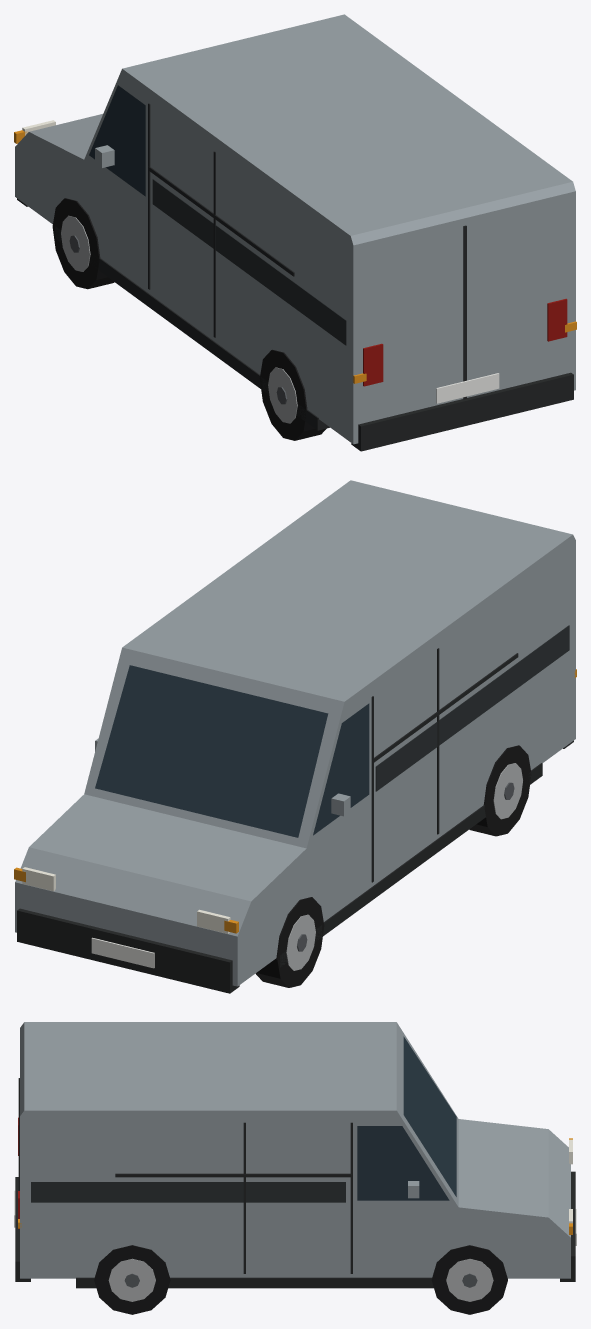
File: van.glb
The picture shows the model from 3 angles, top to bottom: view 1: azimuth 30°, elevation 25°; view 2: azimuth 150°, elevation 25°; view 3: azimuth 270°, elevation 25°; orthographic projection. The views are drawn at different scales.
Visible parts, largest first — view 1: Van, TailL, TailR; view 2: Van; view 3: Van.
Part boxes in pixels (box(x1,y1,x2,y2)): Van: box(15, 14, 575, 451); TailL: box(363, 343, 383, 386); TailR: box(547, 298, 567, 341); Van: box(15, 480, 575, 993); Van: box(14, 1022, 576, 1314).
Bounding box in the file's own units: 2.08 × 2 × 5.
